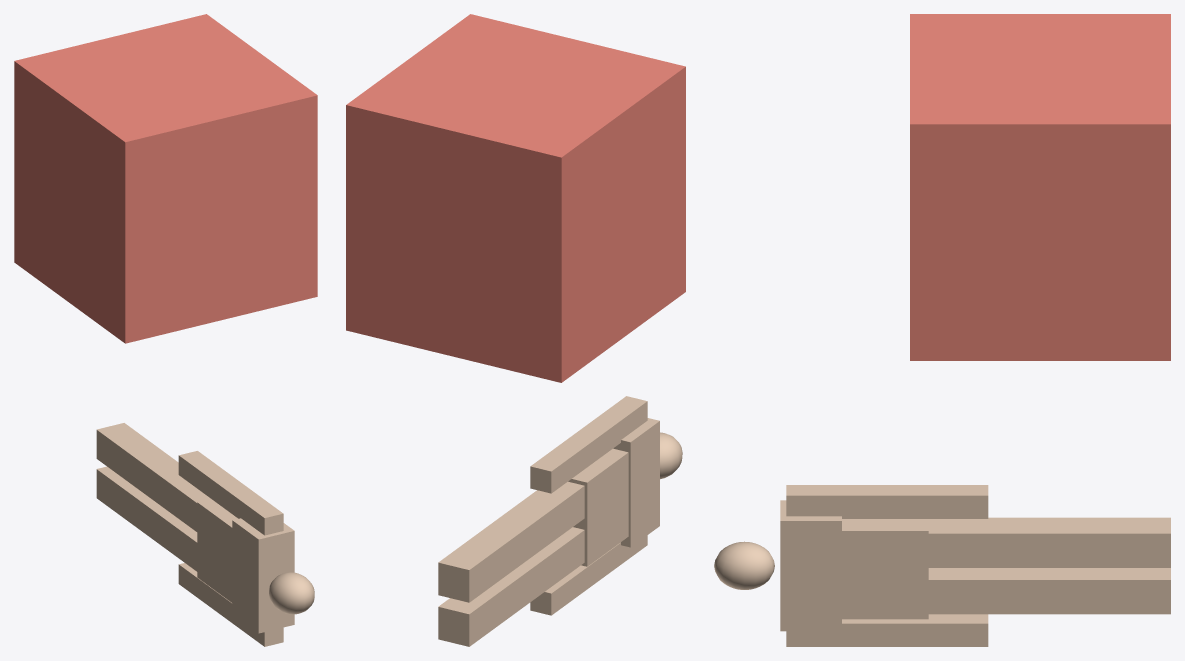
File: figure.glb
3 views of the same model, side by side, from view 1: azimuth 30°, elevation 25°; view 2: azimuth 150°, elevation 25°; view 3: azimuth 270°, elevation 25° (orthographic). The views are drawn at different scales.
Visible parts, largest first — view 1: one_metre_cube, chest, leg_r, leg_l, arm_r, pelvis, arm_l, head; view 2: one_metre_cube, leg_r, leg_l, arm_r, pelvis, chest, arm_l, head; view 3: one_metre_cube, leg_r, leg_l, pelvis, chest, arm_r, arm_l, head.
Part boxes in pixels (x1,y1,x2,y2): one_metre_cube: [14, 14, 317, 343]; chest: [232, 518, 294, 633]; leg_r: [96, 423, 210, 531]; leg_l: [96, 466, 197, 571]; arm_r: [178, 451, 283, 535]; pelvis: [197, 499, 238, 602]; arm_l: [178, 563, 283, 646]; head: [269, 572, 314, 614]; one_metre_cube: [346, 14, 685, 382]; leg_r: [438, 481, 584, 602]; leg_l: [438, 527, 584, 646]; arm_r: [530, 396, 647, 493]; pelvis: [568, 448, 628, 566]; chest: [613, 418, 659, 547]; arm_l: [530, 535, 647, 615]; head: [660, 432, 682, 479]; one_metre_cube: [910, 14, 1170, 360]; leg_r: [928, 517, 1170, 567]; leg_l: [928, 568, 1170, 614]; pelvis: [842, 519, 928, 619]; chest: [780, 500, 841, 631]; arm_r: [786, 485, 988, 518]; arm_l: [786, 614, 988, 646]; head: [714, 541, 774, 589].
Bounding box in the file's own units: 1.15 × 2.79 × 2.02.
